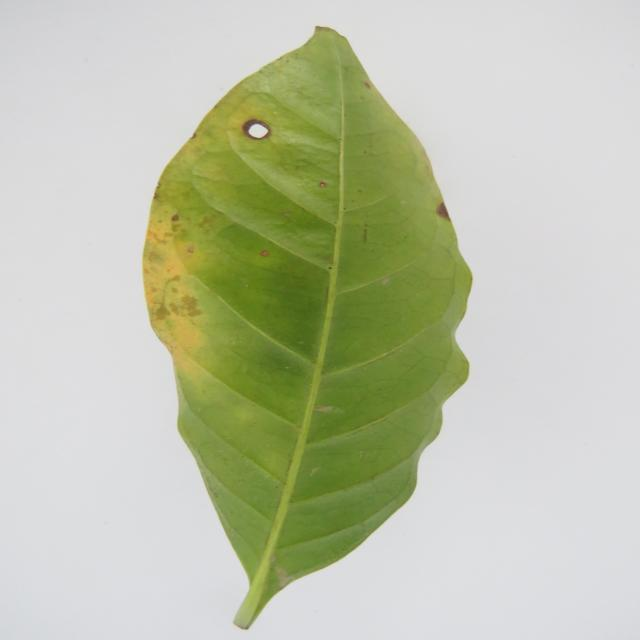DeficienciaNutricional-Calcio: (143, 28, 472, 628)
